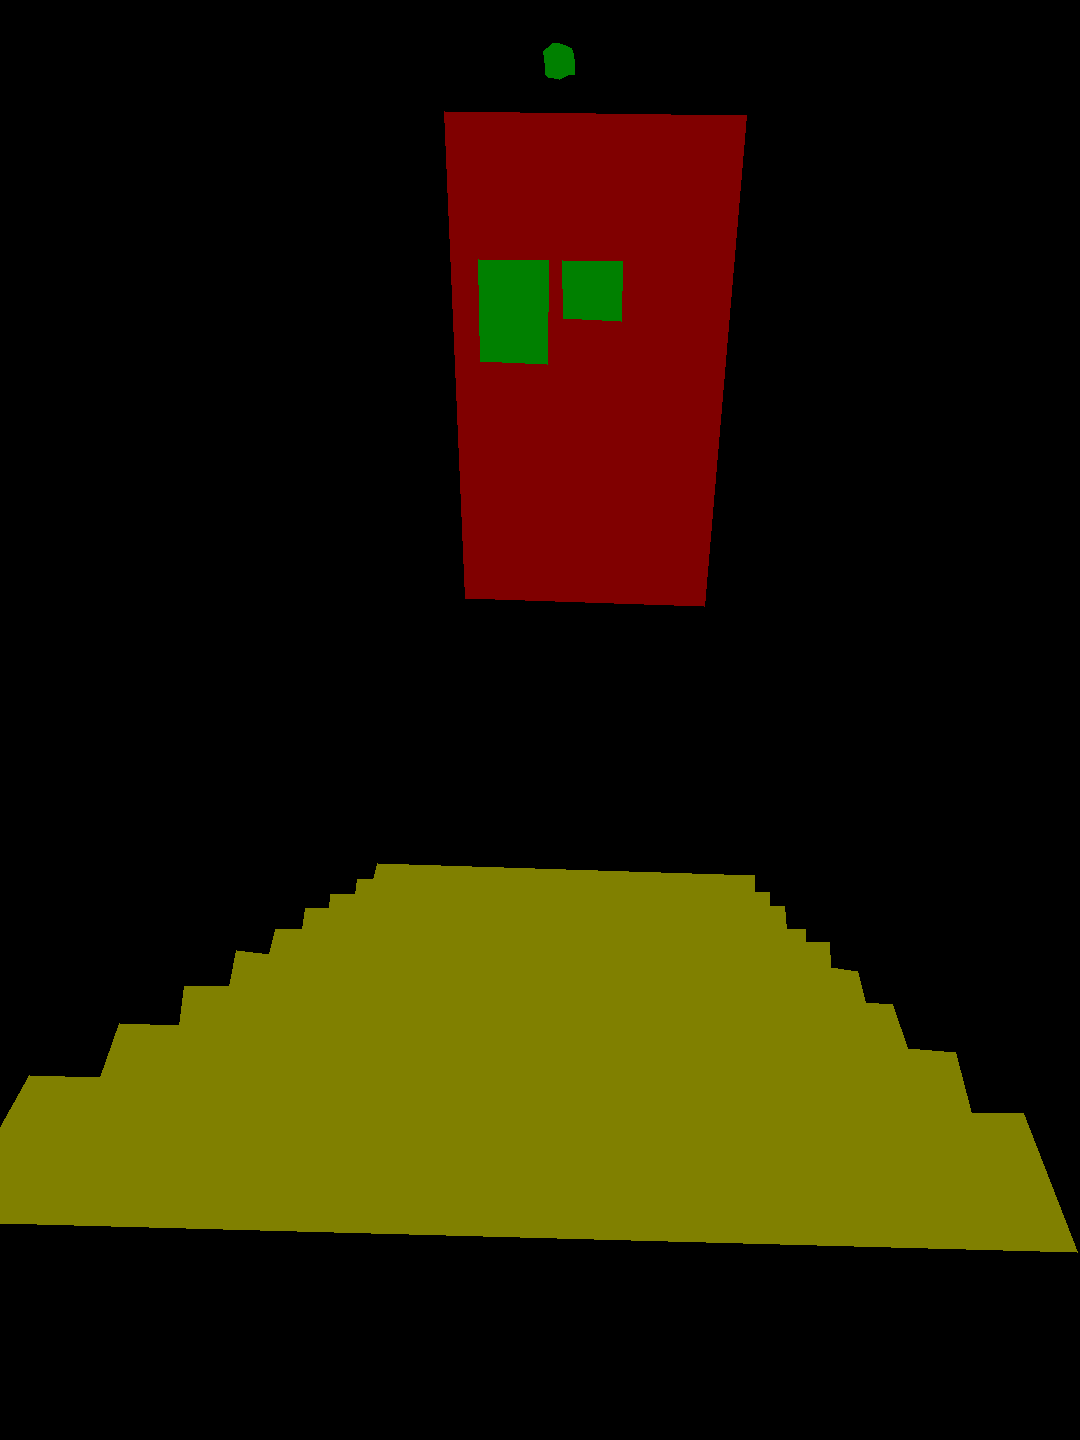door: (444, 111, 746, 605)
sign: (478, 259, 548, 364), (562, 260, 622, 321), (543, 43, 574, 79)
stair: (0, 863, 1077, 1252)
